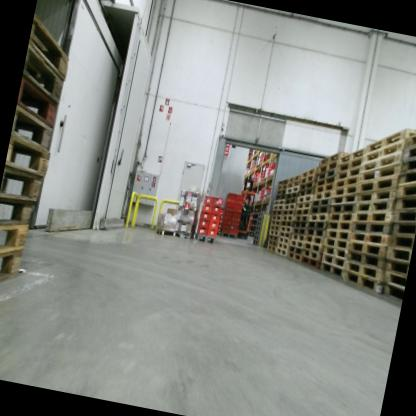forklift: (229, 174, 261, 242)
pallet: (23, 17, 79, 84), (20, 40, 73, 105), (13, 72, 64, 130), (365, 116, 416, 161), (5, 131, 53, 178), (9, 105, 57, 150), (0, 161, 48, 204), (360, 134, 407, 169), (0, 215, 31, 268), (358, 157, 402, 192), (360, 145, 402, 181), (0, 243, 26, 294), (0, 195, 37, 228), (353, 190, 395, 219), (357, 168, 398, 196), (356, 182, 397, 209), (341, 270, 381, 297), (349, 217, 392, 242), (347, 227, 392, 250), (348, 237, 391, 260), (352, 204, 392, 228), (344, 259, 385, 281), (336, 142, 366, 171), (346, 250, 389, 270), (329, 178, 359, 203), (395, 160, 416, 195), (335, 153, 364, 178), (333, 161, 362, 186), (390, 202, 416, 228), (379, 278, 405, 304), (333, 170, 360, 195), (395, 187, 416, 216), (326, 207, 355, 228), (326, 215, 356, 234), (382, 267, 406, 290), (389, 217, 416, 237), (383, 244, 410, 264), (329, 192, 358, 210), (396, 176, 416, 202), (320, 252, 347, 271), (321, 235, 350, 252), (329, 200, 356, 218), (399, 148, 416, 175), (318, 262, 345, 279), (320, 245, 348, 261), (386, 233, 413, 249), (384, 258, 408, 276), (324, 226, 351, 241), (318, 158, 338, 178), (314, 174, 335, 193), (403, 134, 416, 164), (320, 150, 340, 169), (316, 166, 336, 184), (298, 163, 318, 181), (299, 255, 320, 271), (405, 121, 416, 151), (311, 194, 330, 211), (309, 201, 329, 217), (314, 180, 334, 196), (295, 186, 314, 202), (307, 219, 330, 232), (314, 188, 332, 204), (304, 233, 326, 246), (299, 172, 318, 187), (295, 192, 313, 206), (174, 228, 193, 241), (301, 248, 323, 259), (309, 211, 327, 224), (294, 205, 312, 218), (291, 218, 309, 231), (195, 232, 216, 243), (303, 241, 322, 253), (299, 180, 315, 194), (306, 227, 327, 237), (296, 198, 312, 211), (285, 251, 302, 263), (293, 211, 309, 223), (220, 230, 237, 241), (285, 183, 299, 196), (276, 177, 290, 189), (286, 246, 302, 256), (287, 178, 300, 190), (289, 231, 304, 241), (291, 225, 307, 234), (288, 172, 300, 184), (284, 190, 297, 201), (288, 239, 302, 249), (282, 202, 296, 212), (274, 249, 289, 258), (275, 242, 290, 251), (273, 192, 285, 203), (279, 218, 292, 228), (283, 196, 296, 206), (277, 236, 291, 245), (276, 181, 287, 192), (275, 187, 286, 198), (255, 208, 267, 218), (281, 209, 293, 219), (280, 214, 293, 223), (270, 202, 283, 211), (272, 198, 284, 207), (269, 212, 281, 221), (278, 231, 291, 239), (278, 226, 292, 233), (270, 209, 282, 217), (268, 223, 279, 231), (267, 229, 279, 236), (267, 234, 278, 241), (270, 218, 279, 226), (266, 245, 275, 253), (266, 239, 276, 246), (250, 239, 258, 247), (255, 216, 264, 222), (255, 221, 263, 227), (214, 231, 221, 237), (254, 225, 261, 231), (253, 230, 260, 236), (252, 234, 259, 240)
small_load_carrier: (209, 211, 221, 222), (206, 228, 218, 239), (196, 226, 208, 237), (200, 209, 211, 220), (203, 194, 214, 205), (212, 197, 223, 207), (208, 220, 219, 230), (198, 218, 209, 228), (201, 203, 213, 212), (211, 205, 222, 213)
